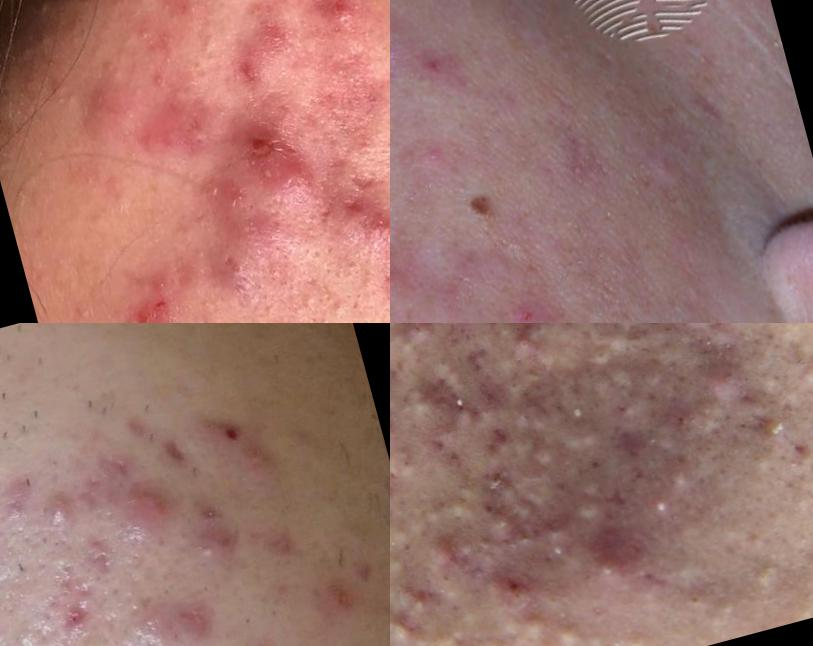blackhead: (332, 239, 367, 283), (342, 281, 373, 324)
papular: (145, 589, 234, 646), (605, 409, 675, 471), (395, 37, 470, 94), (486, 559, 544, 616), (391, 571, 433, 646), (236, 443, 281, 488), (700, 353, 739, 404)
purulent: (584, 531, 648, 597)
sebo-crystan-conglo: (104, 468, 183, 542), (246, 116, 306, 208), (339, 173, 391, 258), (190, 242, 257, 299), (191, 517, 244, 568), (309, 1, 374, 41), (32, 483, 80, 534), (418, 346, 462, 386), (391, 435, 424, 483)
whitehead: (403, 476, 491, 541), (671, 572, 739, 646), (507, 594, 597, 646), (553, 483, 613, 537), (626, 476, 684, 529), (737, 442, 785, 491), (744, 552, 784, 609), (557, 411, 605, 458), (582, 331, 623, 380), (425, 561, 470, 605), (739, 338, 775, 383), (496, 365, 537, 404), (416, 622, 481, 646), (7, 615, 46, 646), (470, 524, 498, 567), (67, 625, 122, 646), (75, 587, 97, 614), (794, 366, 813, 396), (800, 415, 813, 456)
